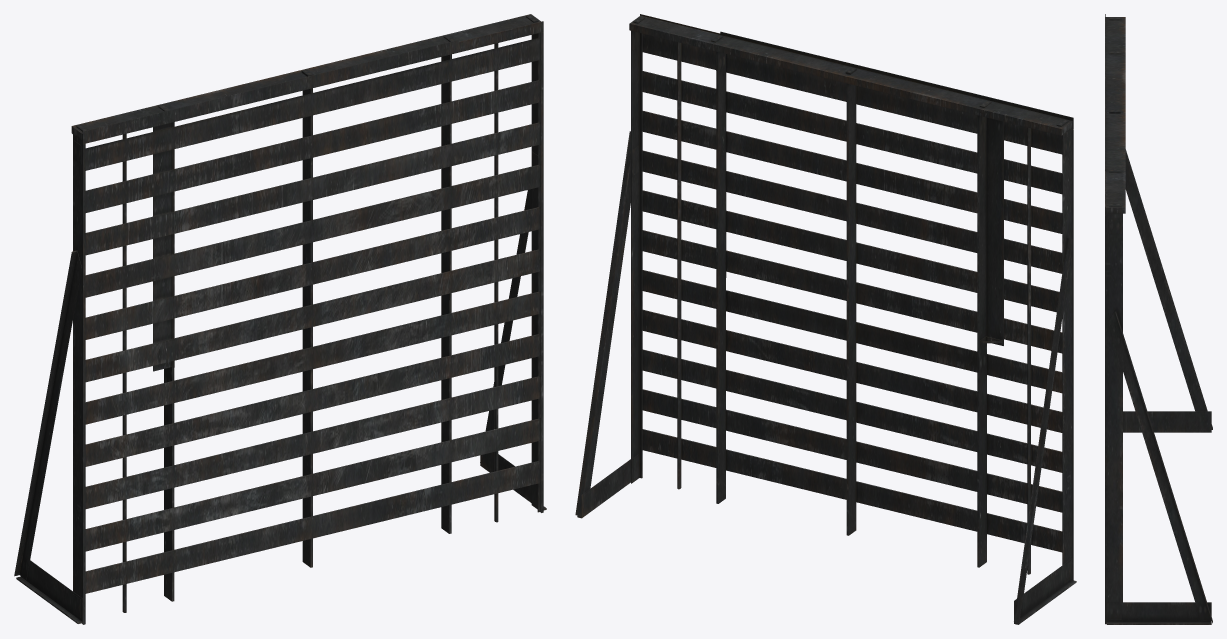
The model's file is steel_platform.obj.
3 views of the same model, side by side, from view 1: azimuth 30°, elevation 25°; view 2: azimuth 150°, elevation 25°; view 3: azimuth 270°, elevation 25° (orthographic). The views are drawn at different scales.
Parts seen in each view (by area): view 1: modular_fire_escape_platform_bottom; view 2: modular_fire_escape_platform_bottom; view 3: modular_fire_escape_platform_bottom.
Boxes of the visible parts, box(x1,y1,x2,y2) form: modular_fire_escape_platform_bottom: box(14, 14, 546, 624); modular_fire_escape_platform_bottom: box(575, 14, 1076, 624); modular_fire_escape_platform_bottom: box(1105, 14, 1212, 624).
Bounding box in the file's own units: 6 × 6 × 1.4.
1 material, 1 textured.
